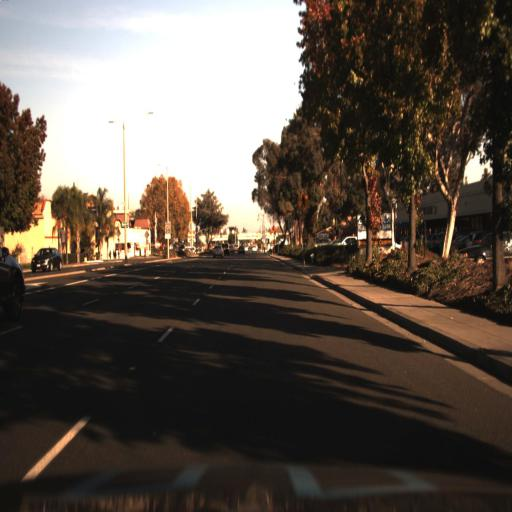car: (1, 236, 31, 325), (0, 245, 30, 329), (26, 241, 65, 275), (337, 228, 369, 251), (209, 241, 225, 260), (237, 242, 246, 259)
